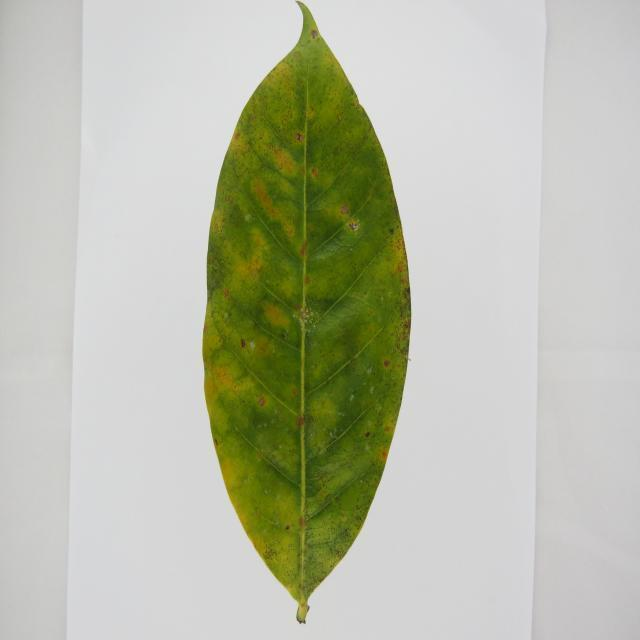DeficienciaNutricional-Nitrogeno: (202, 3, 410, 622)
